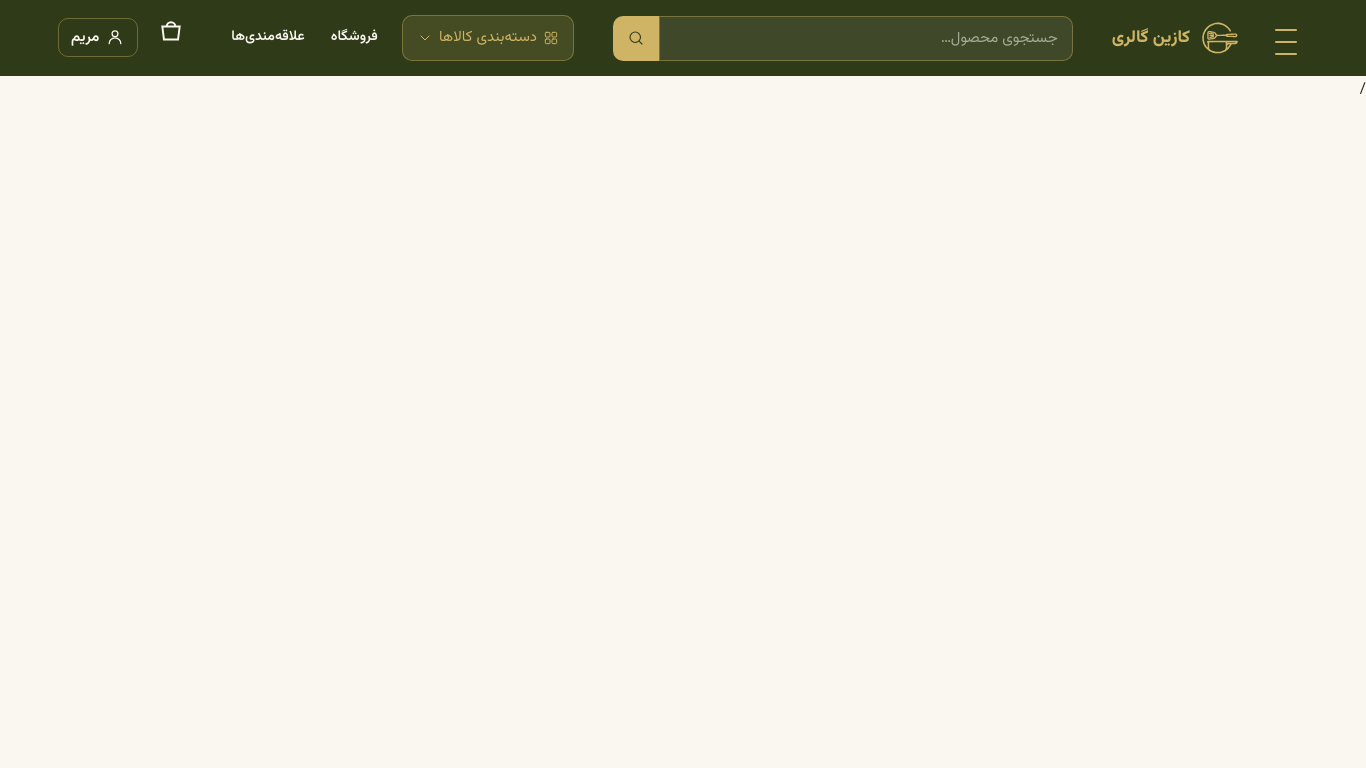
Test: mobile navigation drawer › shows account and sign-out actions for authenticated shoppers
Click the button with class "site-header__burger" at [1286, 38], box [1264,16,1308,60]
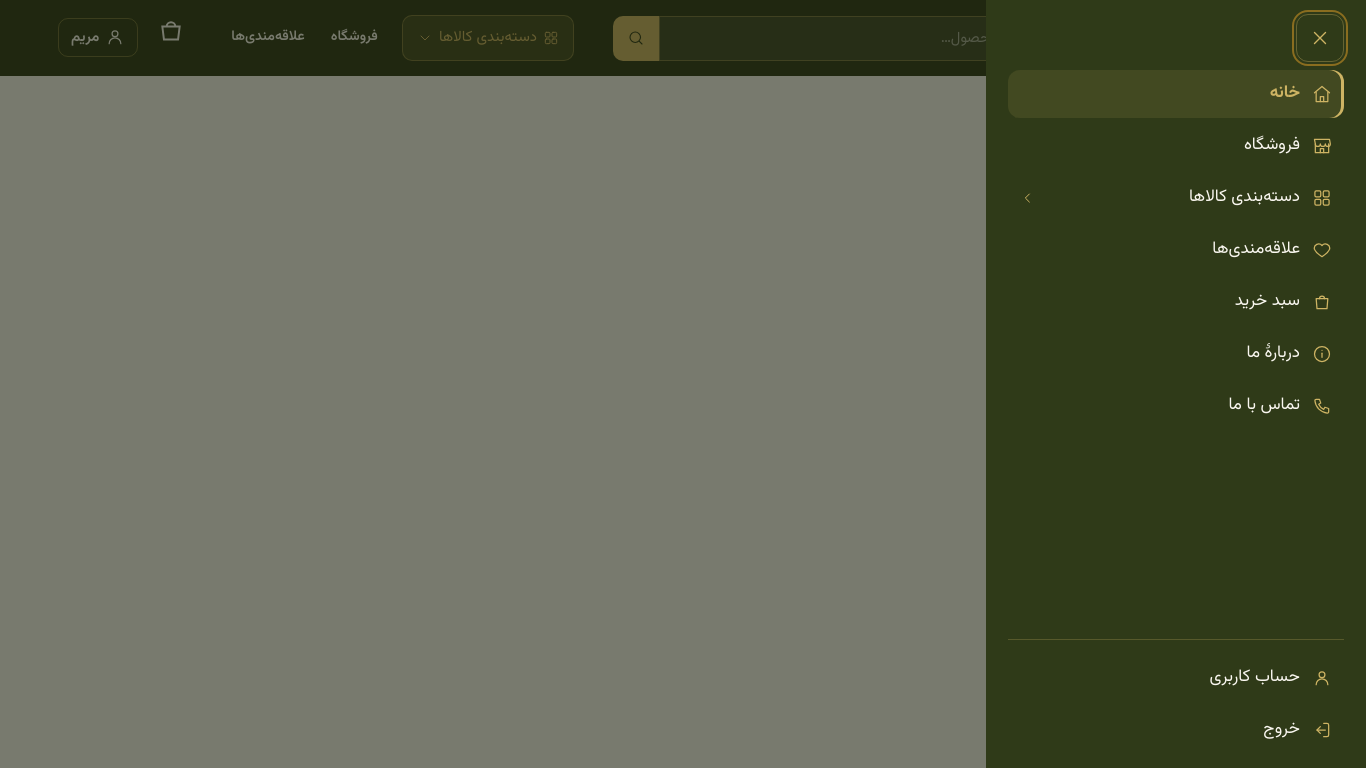
Expected: the link "حساب کاربری" is shown, [1209,664,1332,690]
Expected: the button "خروج" is shown, [1008,706,1344,754]
